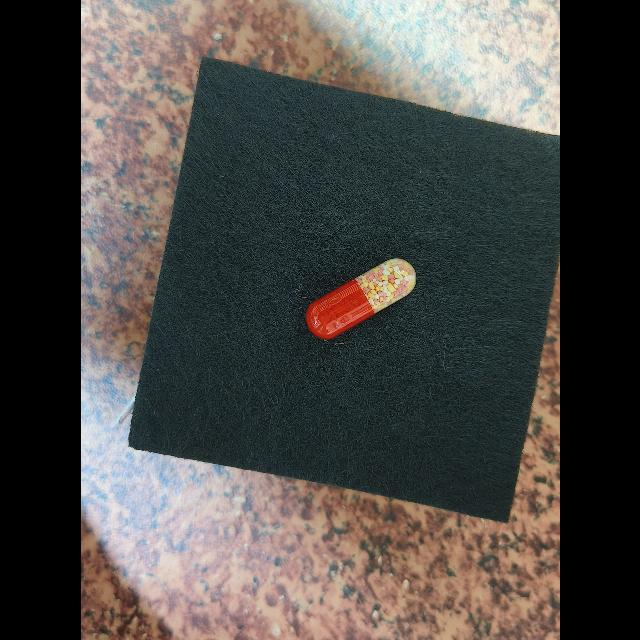Intact Capsule: (305, 258, 416, 339)
